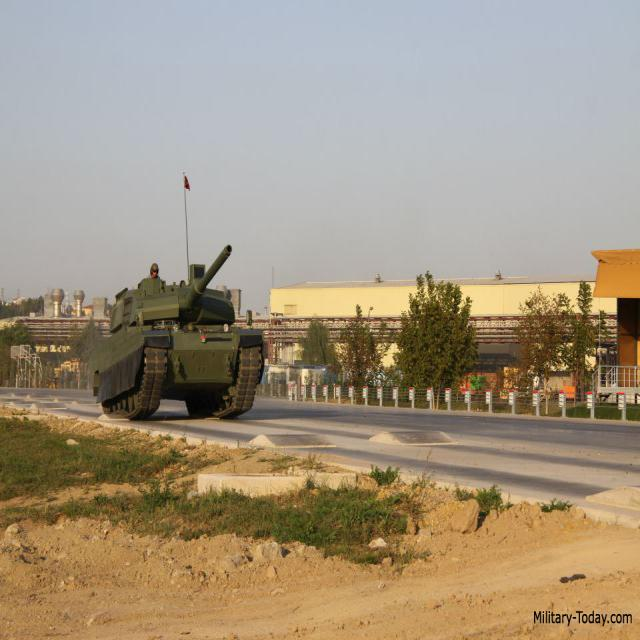Tank: (79, 216, 275, 427)
